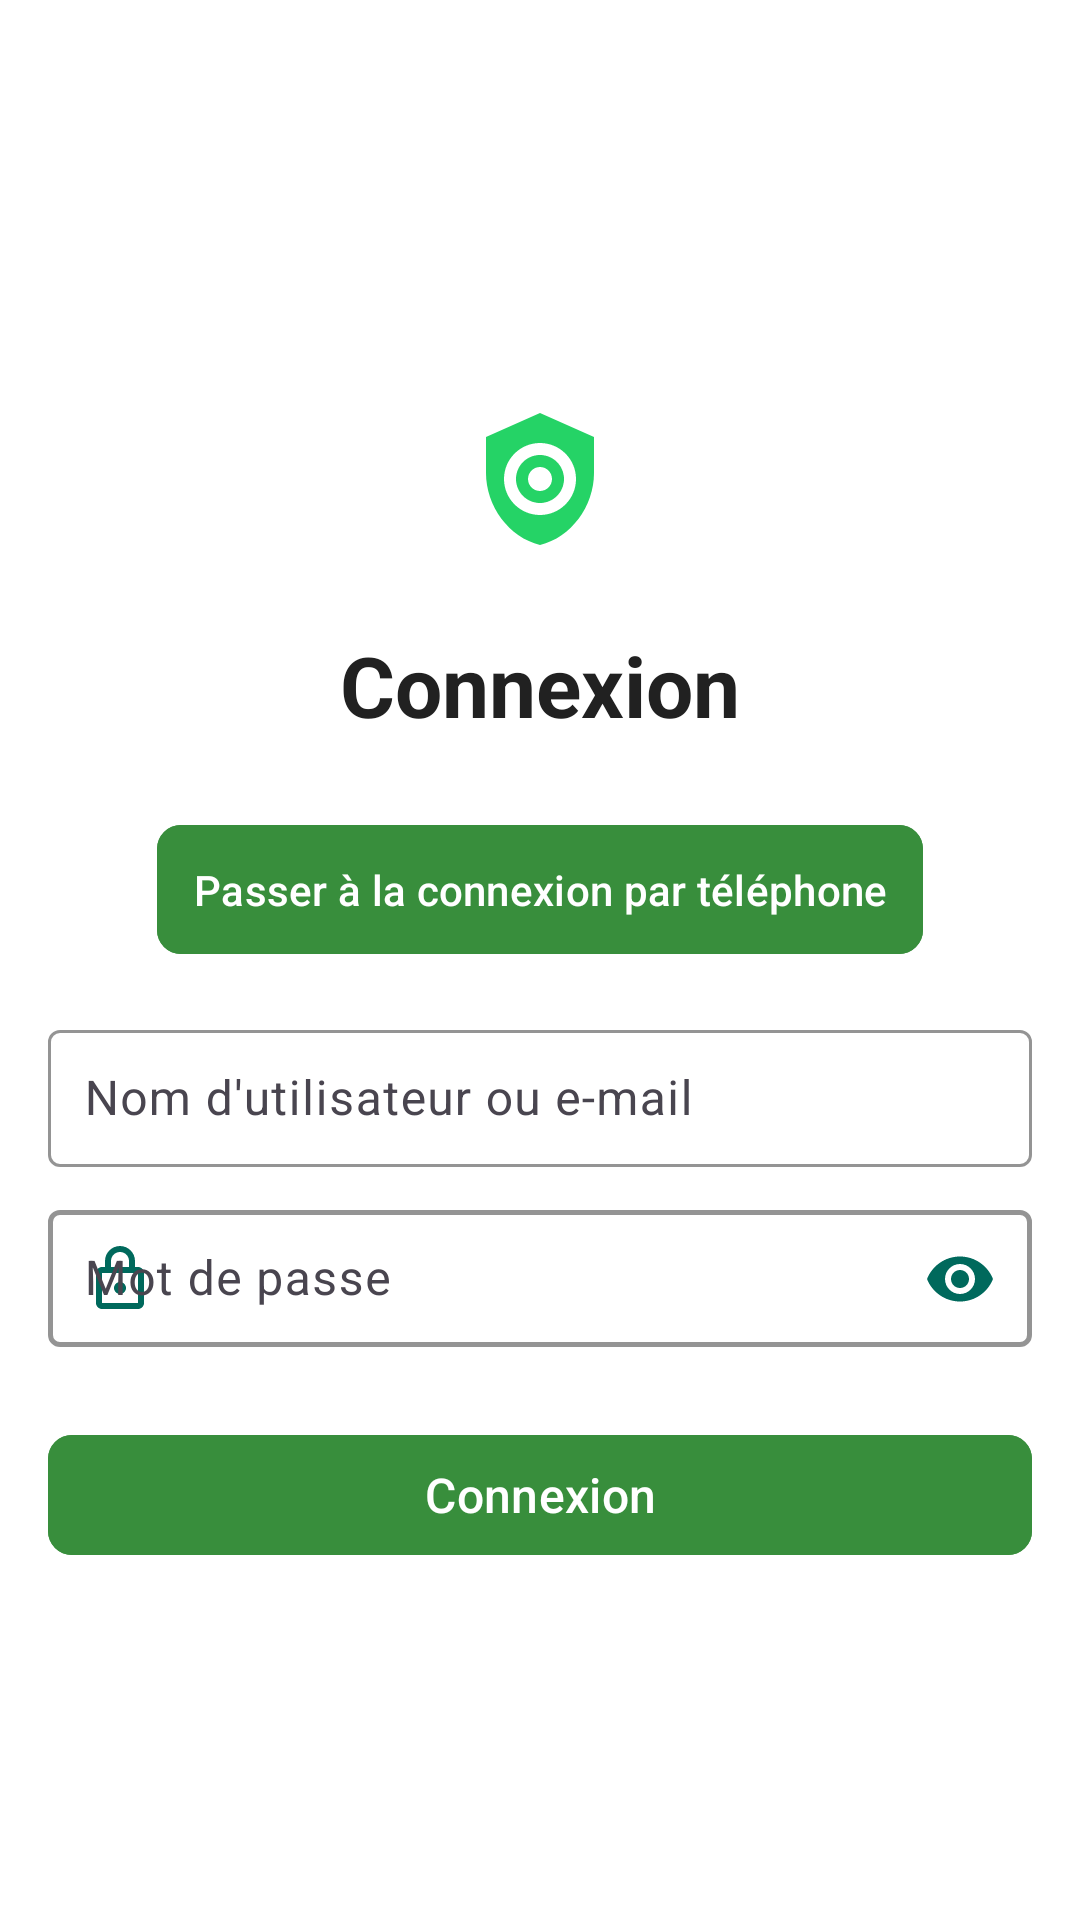

Screen size 1080 x 1920. Icon name, then its center in pixels as point (x, y):
icône de l'application: point (540, 479)
